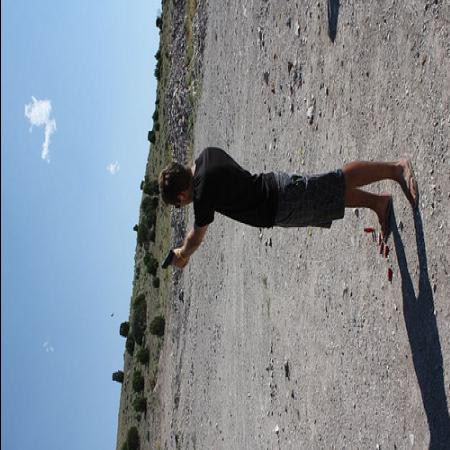Pistol: (158, 245, 178, 269)
